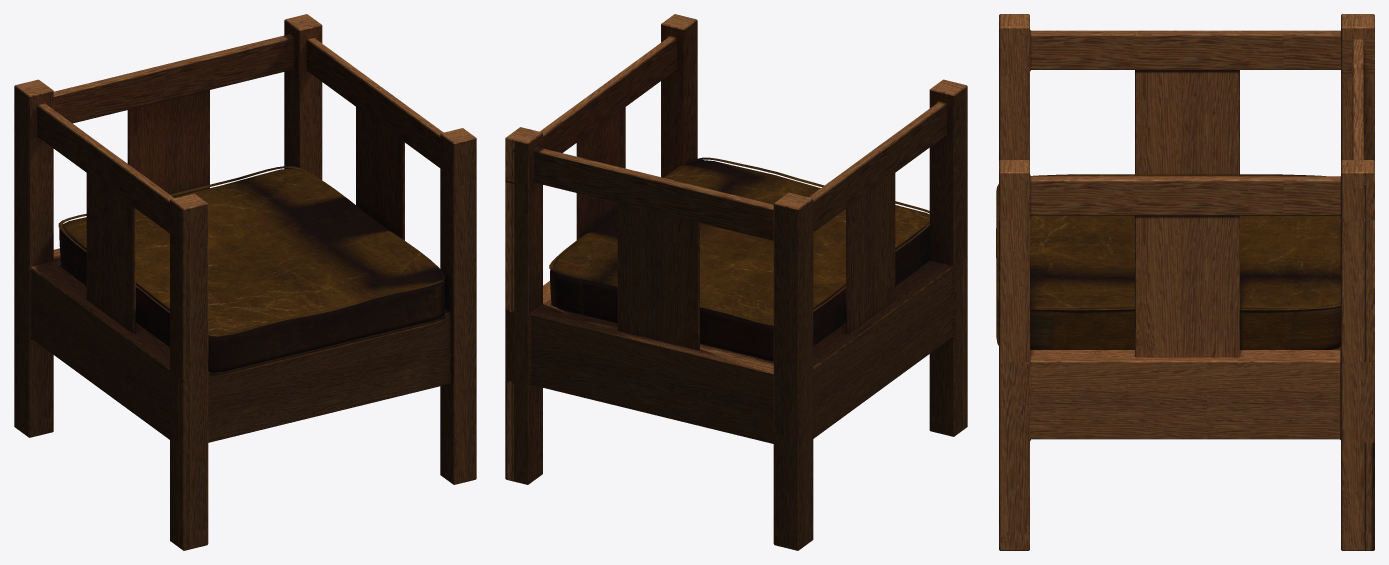
The model's file is brc.fbx.
3 views of the same model, side by side, from view 1: azimuth 30°, elevation 25°; view 2: azimuth 150°, elevation 25°; view 3: azimuth 270°, elevation 25° (orthographic). The views are drawn at different scales.
Parts seen in each view (by area): view 1: Cube.003; view 2: Cube.003; view 3: Cube.003.
Boxes of the visible parts, box(x1,y1,x2,y2) form: Cube.003: box(14, 14, 476, 550); Cube.003: box(505, 14, 967, 550); Cube.003: box(996, 14, 1374, 550).
Size of the model in its own units: 0.9163 by 1.02 by 0.9238.
Materials: 2 (2 with a texture image).
